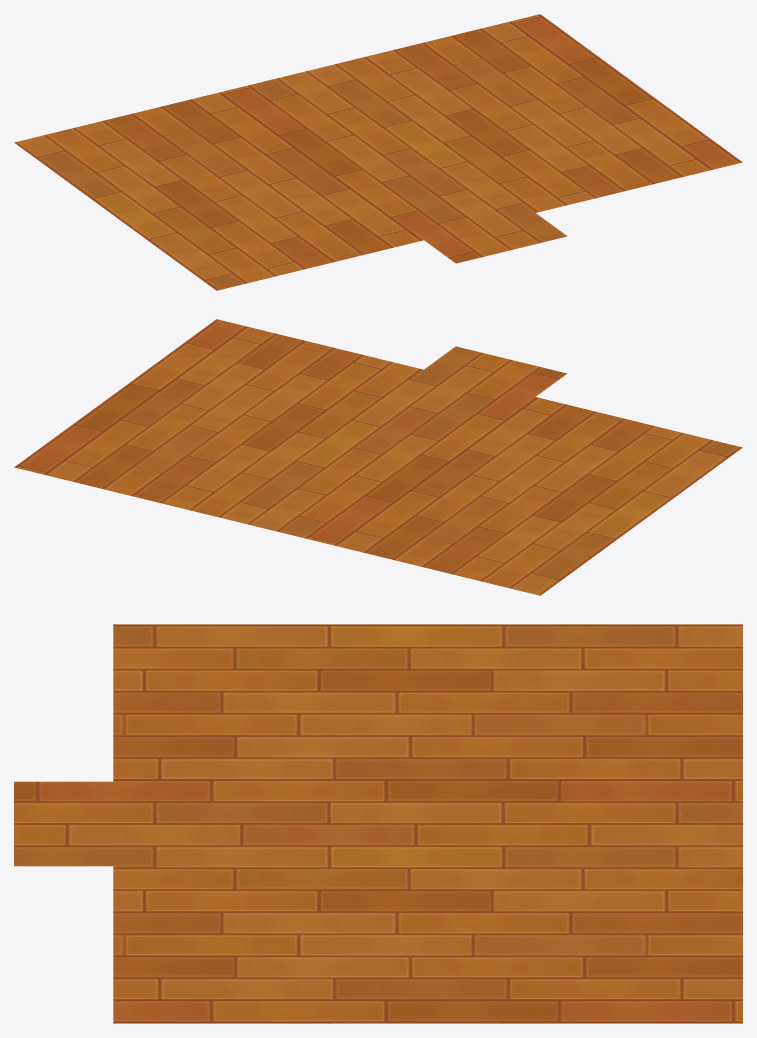
The model's file is Floor03_a02.FBX.
3 views of the same model, one above another, from view 1: azimuth 30°, elevation 25°; view 2: azimuth 150°, elevation 25°; view 3: azimuth 270°, elevation 25° (orthographic). The views are drawn at different scales.
Visible parts, largest first — view 1: Floor03_a02; view 2: Floor03_a02; view 3: Floor03_a02.
Part boxes in pixels (bbox=[...]): Floor03_a02: bbox=[14, 14, 742, 290]; Floor03_a02: bbox=[14, 319, 742, 595]; Floor03_a02: bbox=[14, 624, 742, 1023].
Bounding box in the file's own units: 900 × 0.000446 × 695.
Materials: 1 (1 with a texture image).
